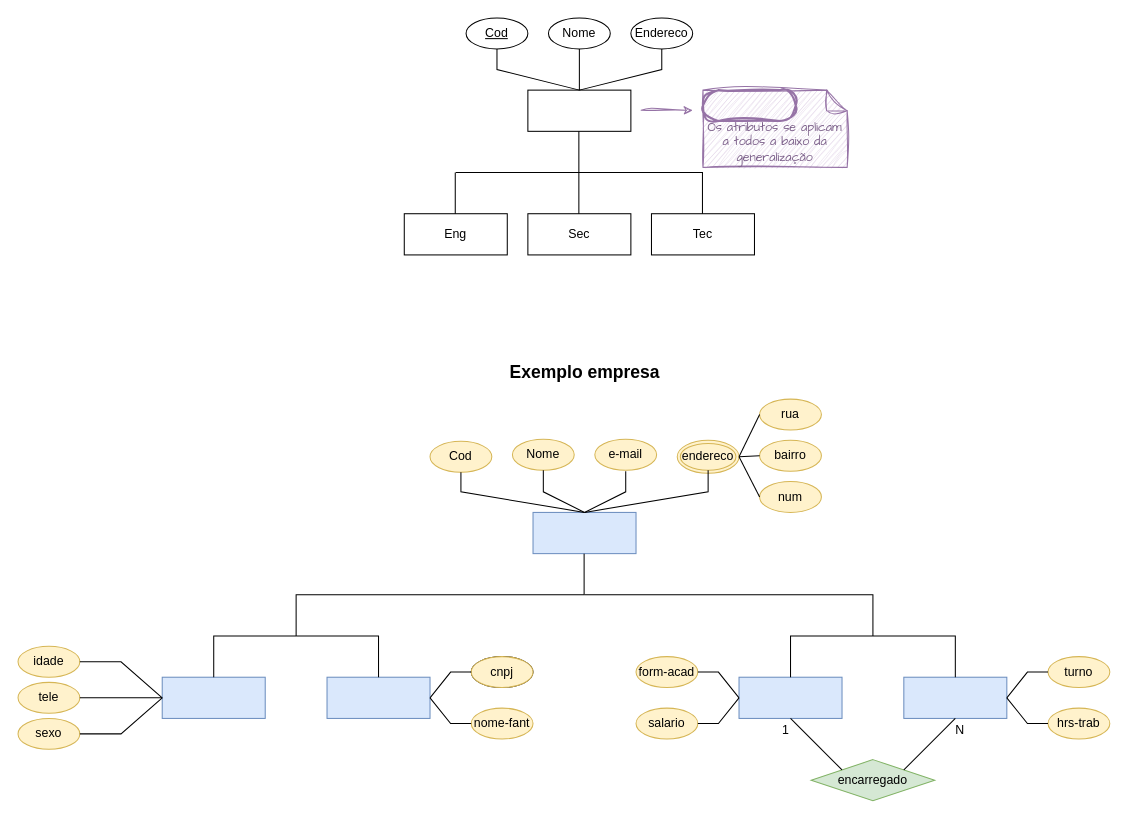
Some shapes in this 1128 by 819 pixel diagram are drawn without their labels. Each missing label, with the box of its shape:
Empregado: (903, 676, 1007, 718)
Funcionários: (527, 89, 631, 131)
Generalização: (701, 89, 796, 122)
Gerente: (738, 676, 842, 718)
Pessoa: (532, 511, 636, 554)
Pessoa Fisica: (161, 676, 265, 718)
Pessoa Juridica: (326, 676, 430, 718)
